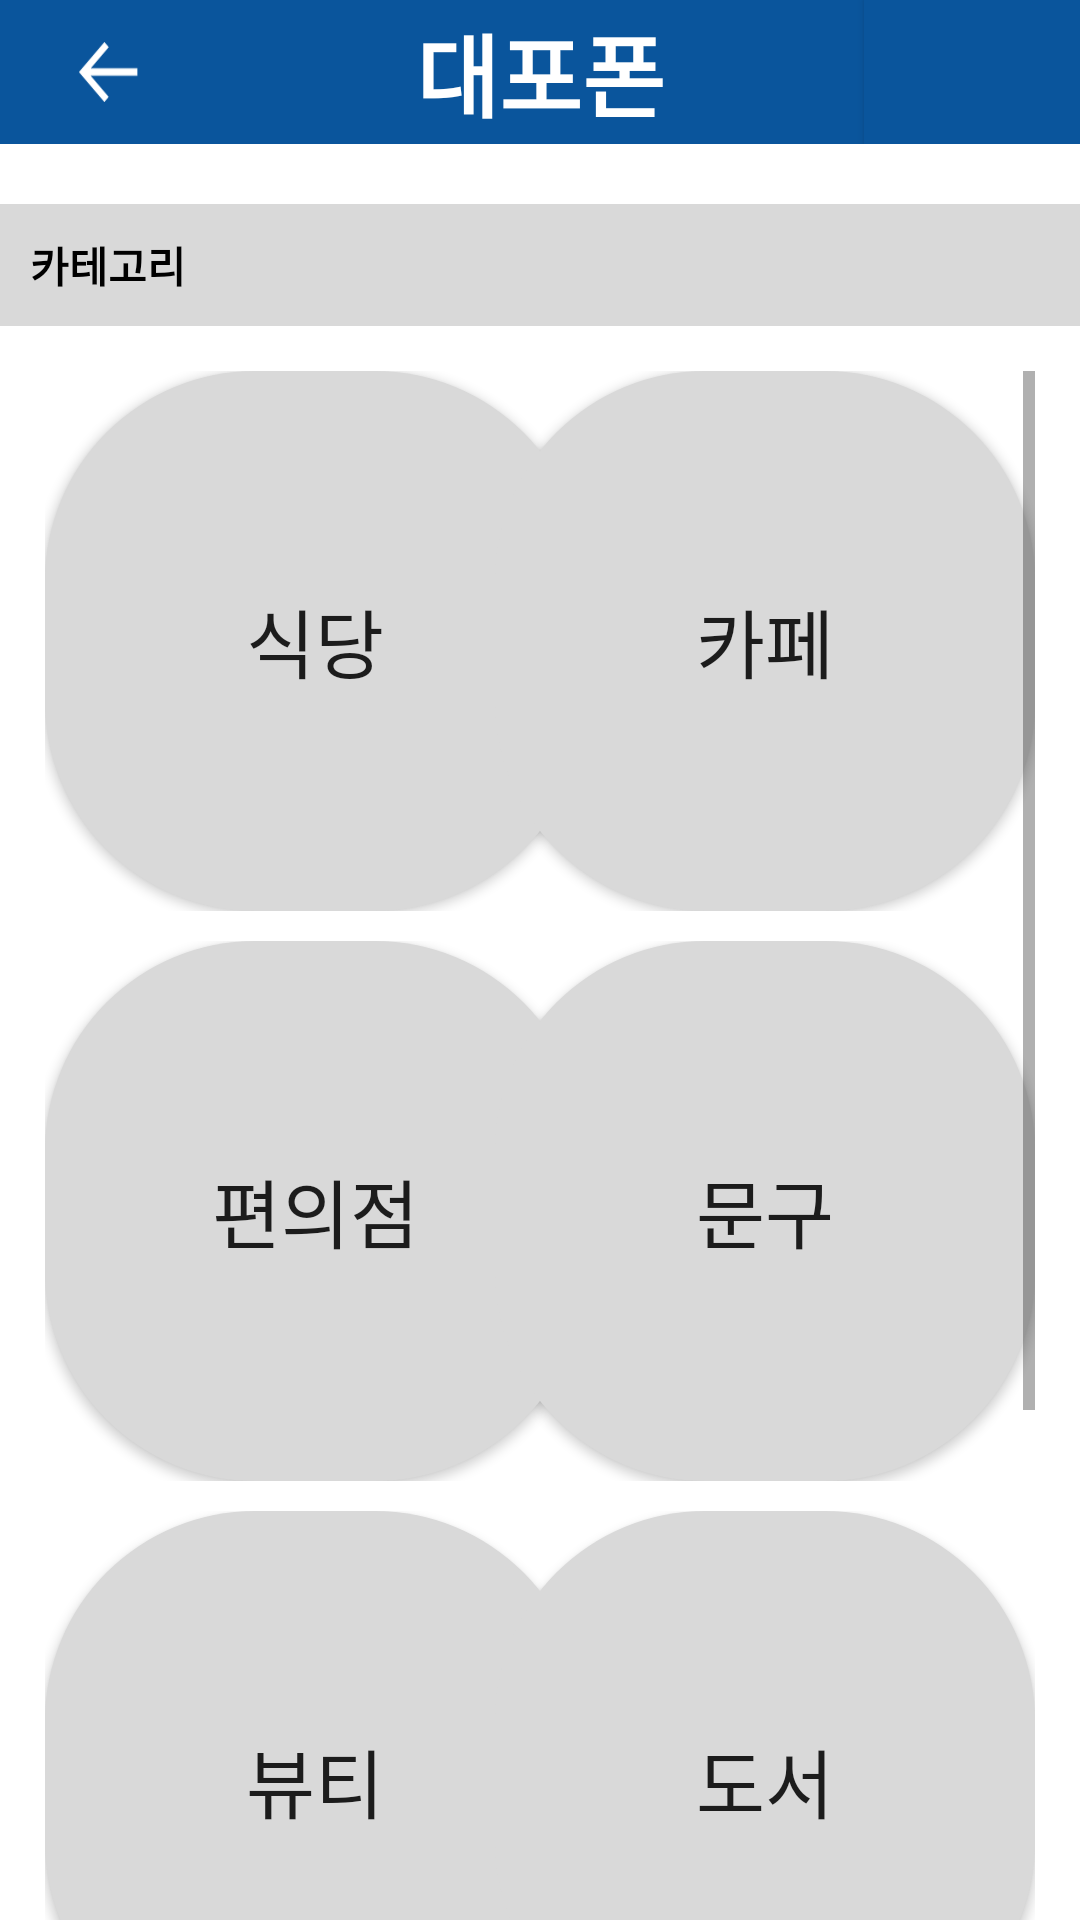

Where icons sit on this 1080*1920 app screen, as (x1, y1, x2, y2):
back arrow resize: (79, 42, 138, 102)
